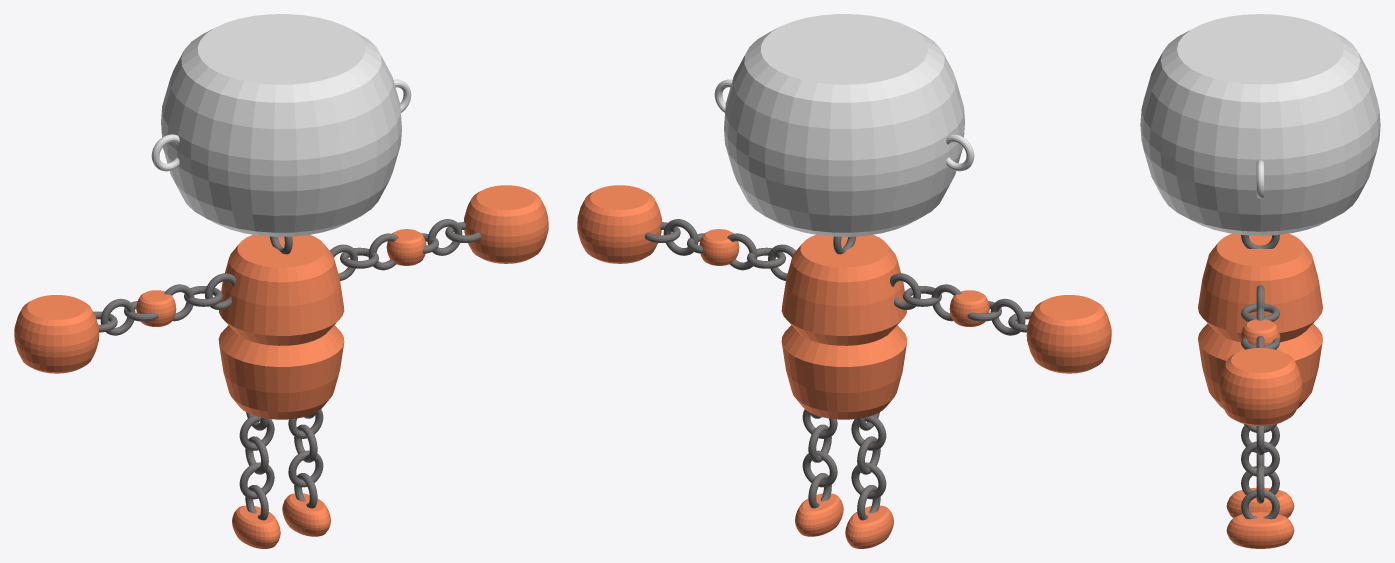
File: pot.fbx
3 renders of one model, left to right at view 1: azimuth 30°, elevation 25°; view 2: azimuth 150°, elevation 25°; view 3: azimuth 270°, elevation 25°, orthographic.
Visible parts, largest first — view 1: Cylinder, Cylinder.001, Cylinder.004, Cylinder.006, Cylinder.007, Torus.013, Torus.007, Torus.012, Torus.003, Torus.011, Torus.014, Torus.001 (+3 smaller); view 2: Cylinder, Cylinder.001, Cylinder.004, Cylinder.006, Cylinder.007, Torus.013, Torus.007, Torus.012, Torus.003, Torus.011, Torus.014, Torus.001 (+3 smaller); view 3: Cylinder, Cylinder.001, Cylinder.004, Cylinder.006, Torus.012, Torus.014, Cylinder.007, Torus.003, Torus.013, Torus.002, Torus.016.
Boxes of the visible parts, x1,y1,x2,y2 form: Cylinder: (161, 14, 401, 236); Cylinder.001: (218, 234, 344, 419); Cylinder.004: (14, 185, 548, 373); Cylinder.006: (232, 493, 330, 548); Cylinder.007: (136, 229, 426, 326); Torus.013: (239, 450, 323, 499); Torus.007: (100, 219, 462, 335); Torus.012: (245, 424, 317, 474); Torus.003: (184, 247, 378, 306); Torus.011: (239, 409, 323, 450); Torus.014: (245, 473, 317, 520); Torus.001: (205, 244, 357, 309); Cylinder: (724, 14, 964, 236); Cylinder.001: (781, 234, 907, 419); Cylinder.004: (577, 185, 1111, 373); Cylinder.006: (795, 493, 893, 548); Cylinder.007: (699, 229, 989, 326); Torus.013: (802, 450, 886, 499); Torus.007: (663, 219, 1025, 335); Torus.012: (808, 424, 880, 474); Torus.003: (747, 247, 941, 306); Torus.011: (802, 409, 886, 450); Torus.014: (808, 473, 880, 520); Torus.001: (768, 244, 920, 309); Cylinder: (1140, 14, 1380, 235); Cylinder.001: (1198, 233, 1322, 408); Cylinder.004: (1218, 348, 1302, 426); Cylinder.006: (1226, 487, 1294, 548); Torus.012: (1241, 425, 1279, 476); Torus.014: (1241, 466, 1279, 519); Cylinder.007: (1240, 319, 1280, 349); Torus.003: (1241, 303, 1279, 321); Torus.013: (1256, 452, 1264, 503); Torus.002: (1256, 160, 1264, 198); Torus.016: (1241, 234, 1279, 248).
Size of the model in its own units: 3863 by 3416 by 1545.
